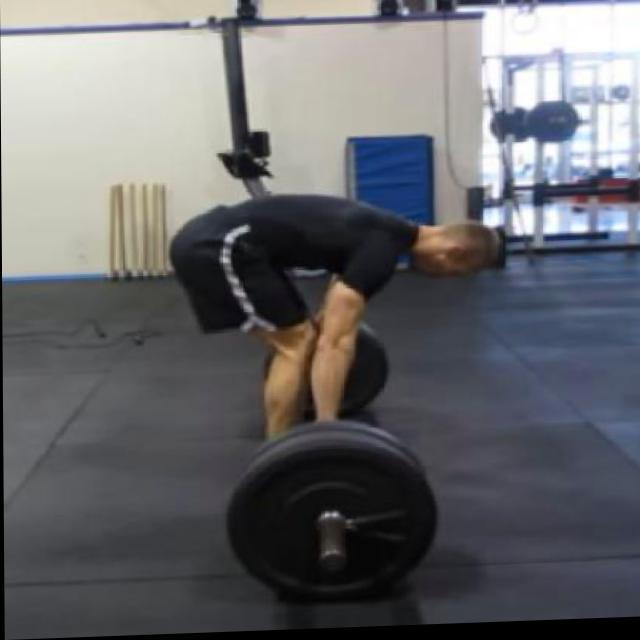barbell: (218, 432, 444, 615)
